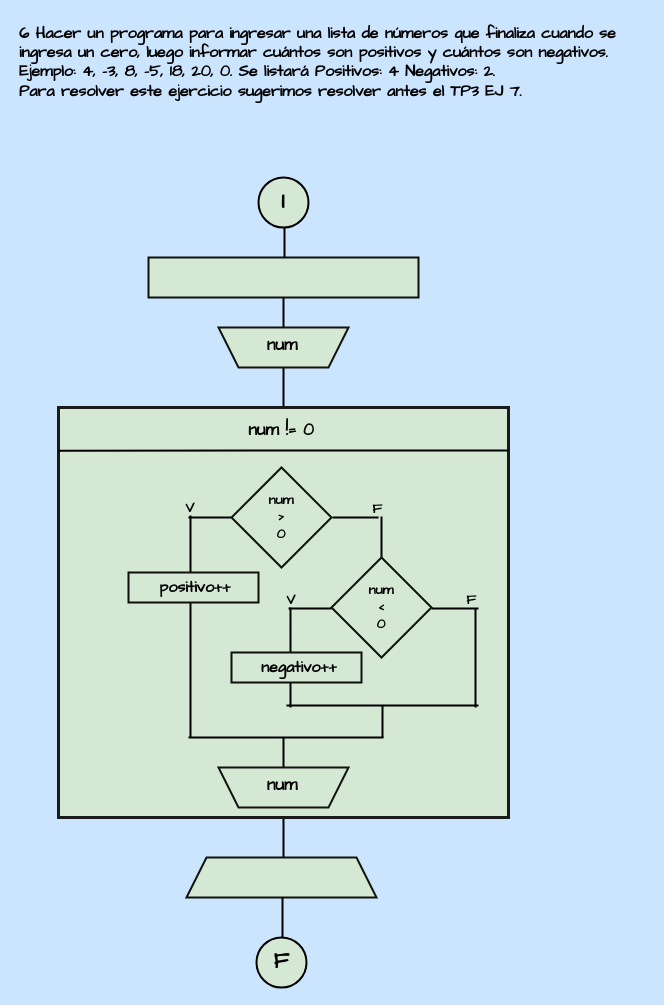
The diagram is 664 pixels wide and 1005 high, and some of its shapes have lost their labels. The centre of each missing label's shape, as x and y in pixels:
"int num, positivo = 0, negativo = 0" goes at point (283, 277).
"positivo, negativo" goes at point (281, 877).
